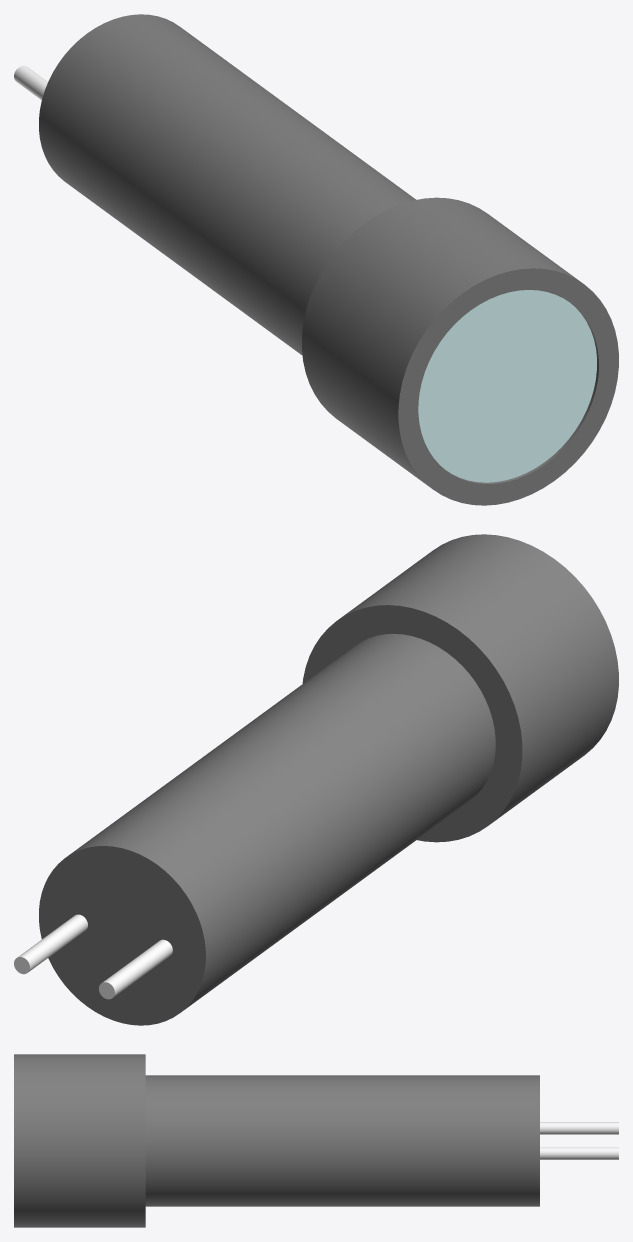
The picture shows the model from 3 angles, top to bottom: view 1: azimuth 30°, elevation 25°; view 2: azimuth 150°, elevation 25°; view 3: azimuth 270°, elevation 25°; orthographic projection. The views are drawn at different scales.
Visible parts, largest first — view 1: mesh4036, mesh4038, mesh4041, mesh4039, mesh4040, mesh4042; view 2: mesh4036, mesh4038, mesh4035, mesh4037, mesh4042, mesh4034; view 3: mesh4036, mesh4038, mesh4034, mesh4042.
Part boxes in pixels (x1,y1,x2,y2): mesh4036: (39,14,416,355); mesh4038: (302,197,581,487); mesh4041: (418,290,596,482); mesh4039: (398,268,618,505); mesh4040: (446,303,598,483); mesh4042: (14,65,47,99); mesh4036: (67,633,495,1011); mesh4038: (340,534,618,824); mesh4035: (39,846,205,1025); mesh4037: (302,605,522,842); mesh4042: (102,939,172,996); mesh4034: (18,914,87,972); mesh4036: (145,1075,539,1206); mesh4038: (14,1054,145,1227); mesh4034: (540,1147,618,1159); mesh4042: (540,1122,618,1134).
Bounding box in the file's own units: 0.00659 × 0.0066 × 0.023.
